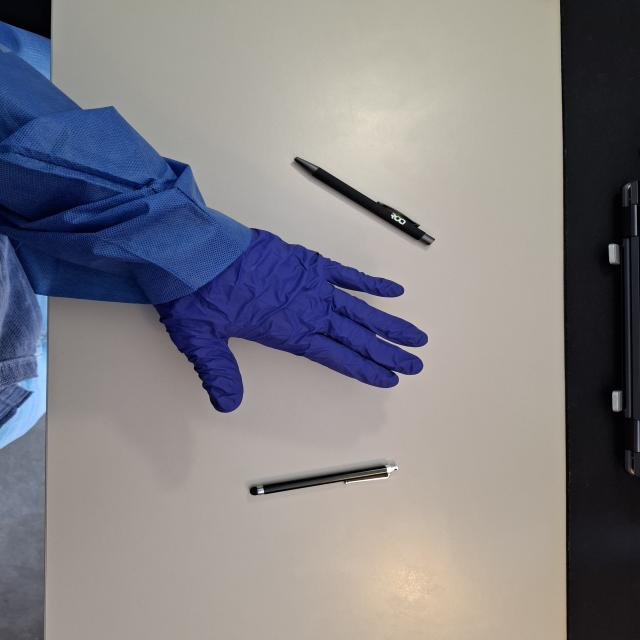glove_on: (140, 225, 430, 414)
